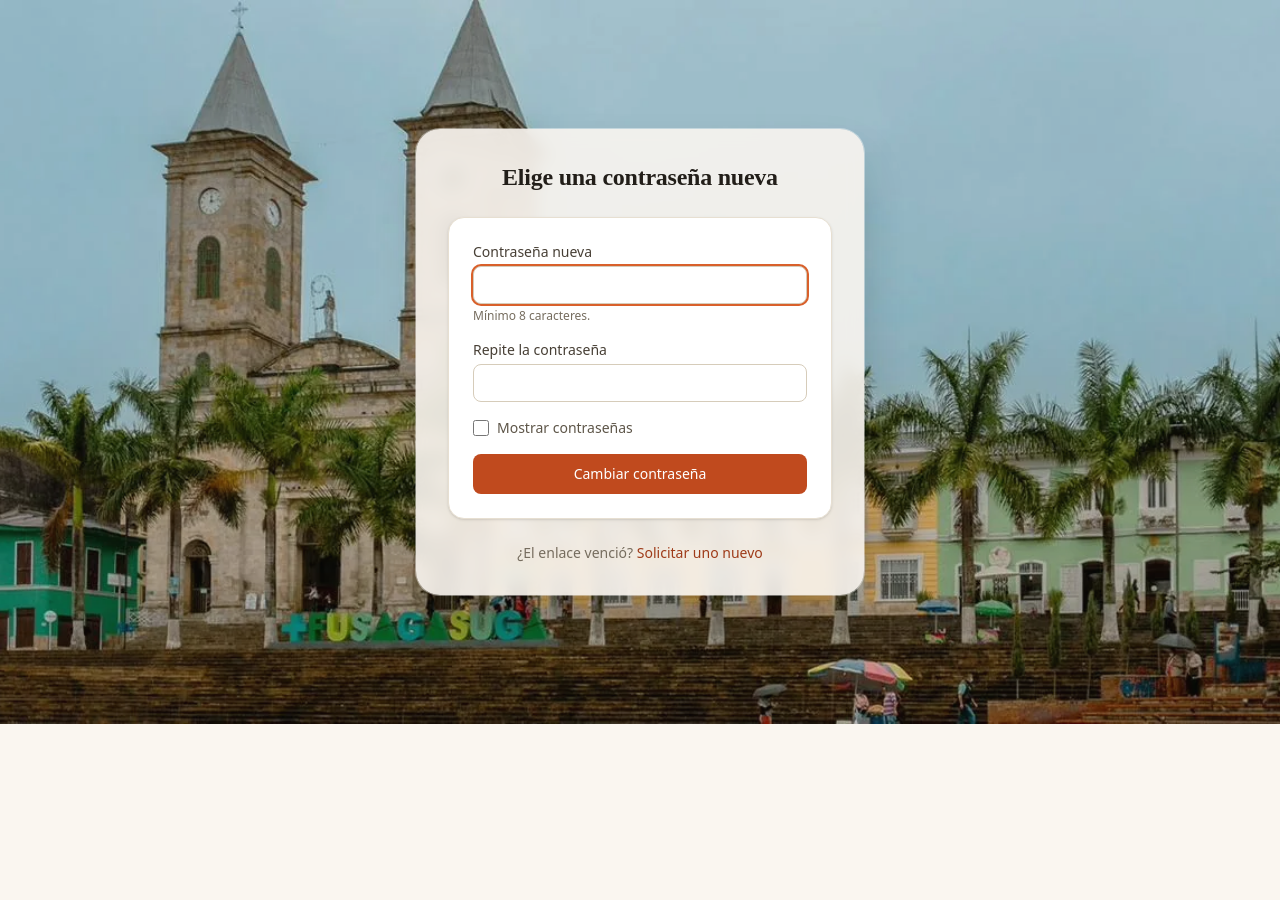
it: RestablecerContrasena con token › si el servidor falla muestra el error y deja volver a intentar
Type "Segura1234" into the password field labelled "Contraseña nueva" at (640, 285), box [473,266,807,304]
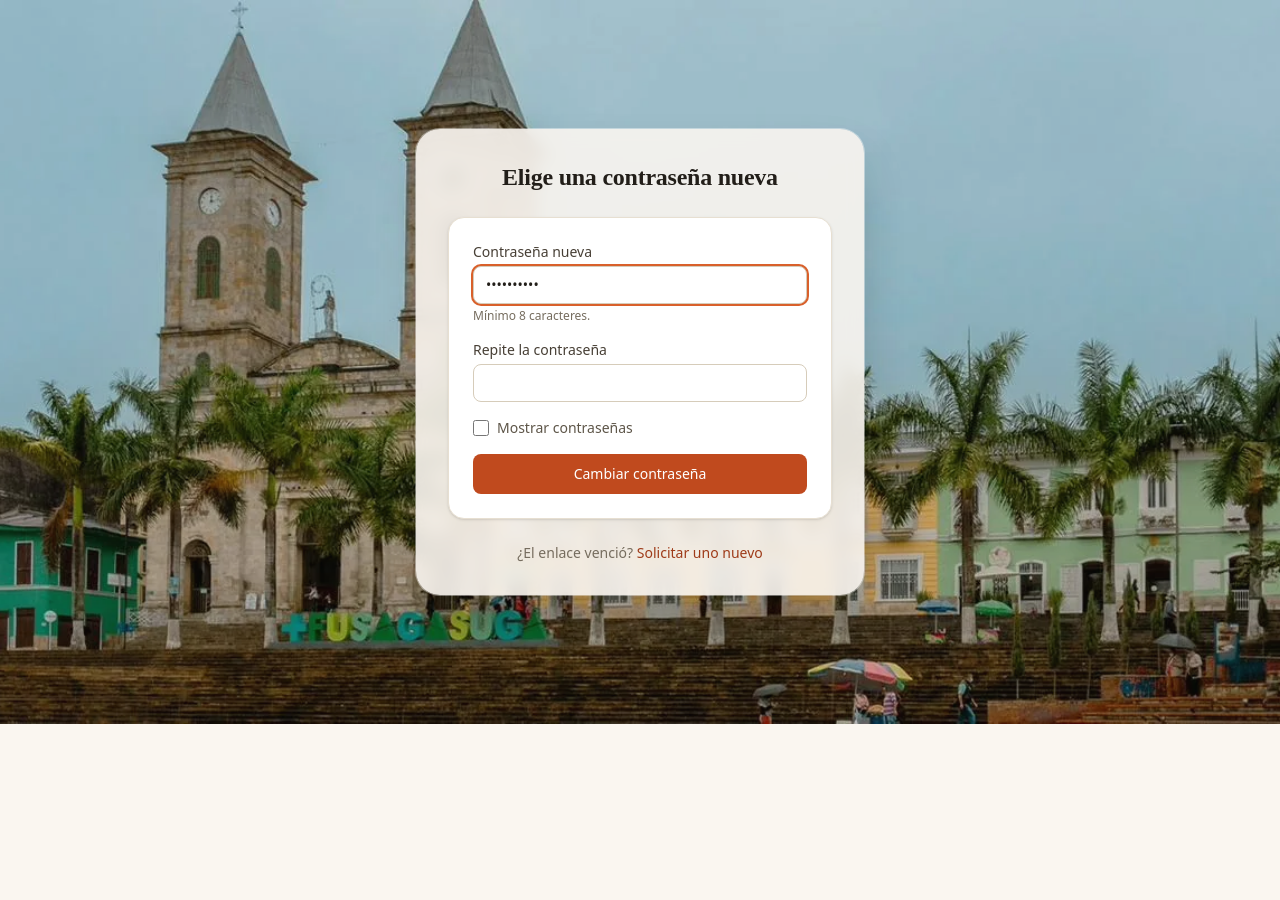
Type "Segura1234" into the password field labelled "Repite la contraseña" at (640, 383), box [473,364,807,402]
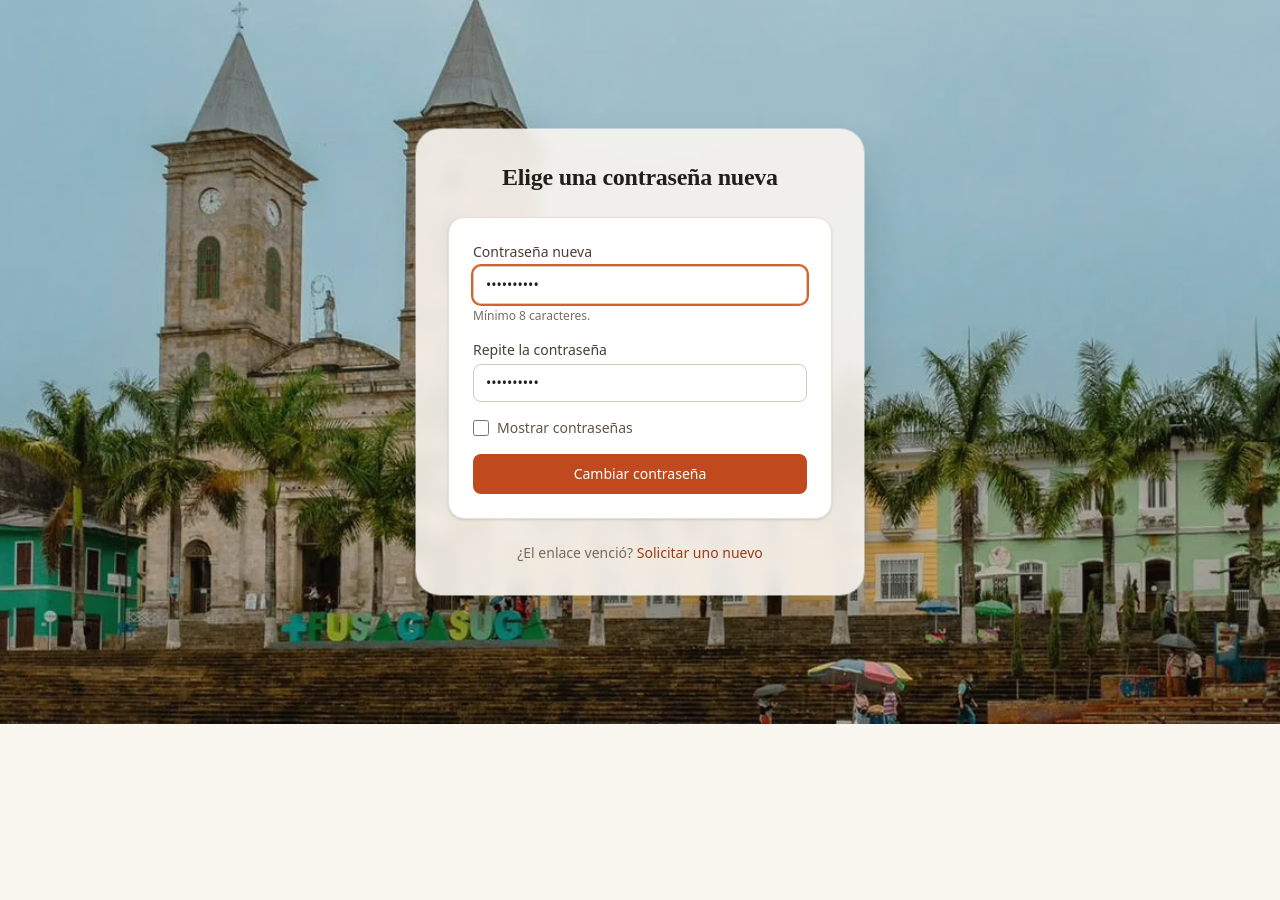
Submit the form labelled "Contraseña nueva", box [473,242,807,494]
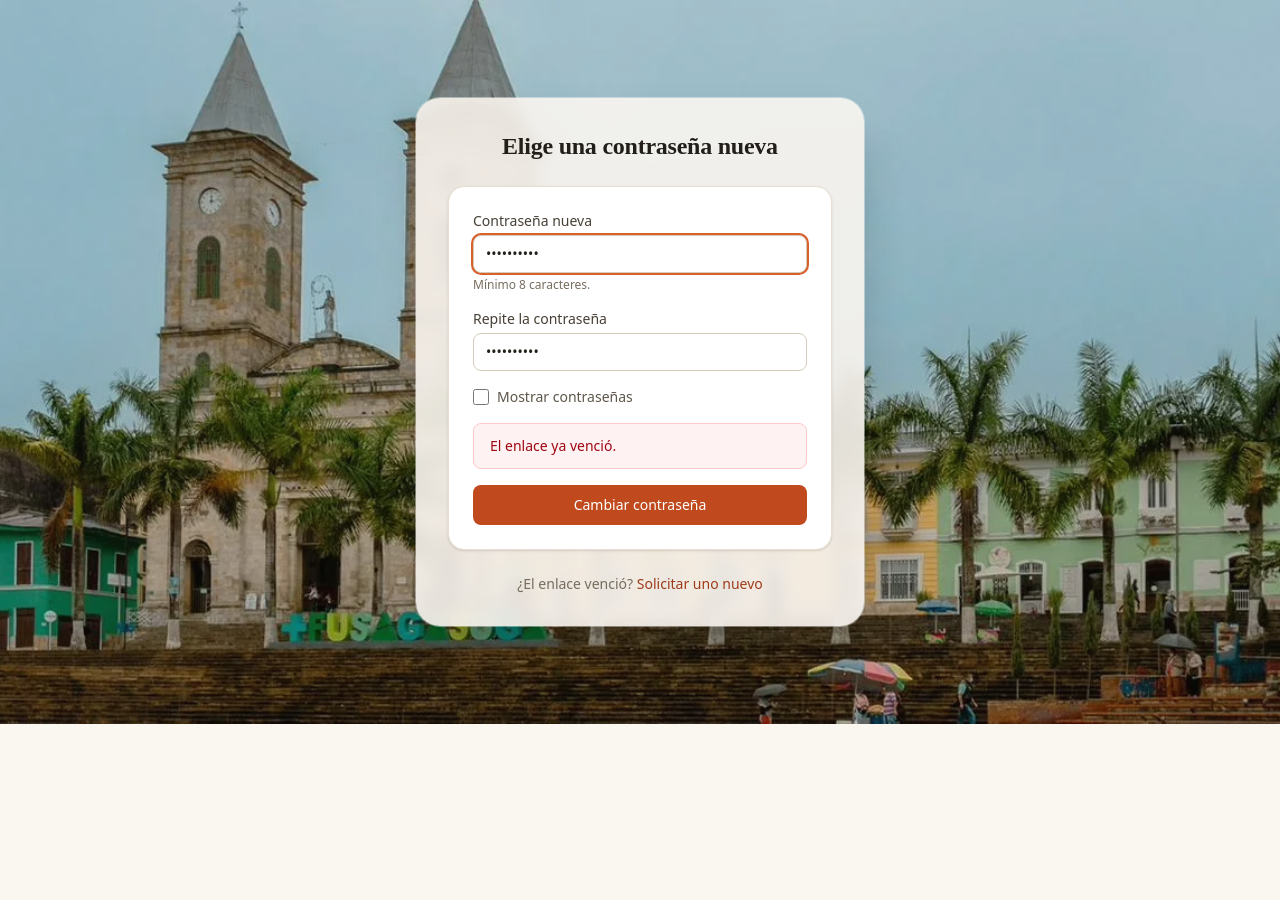
Check: the button "Cambiar contraseña" is enabled, box [473,485,807,525]
Check: the message reads "El enlace ya venció.", box [490,436,616,455]
